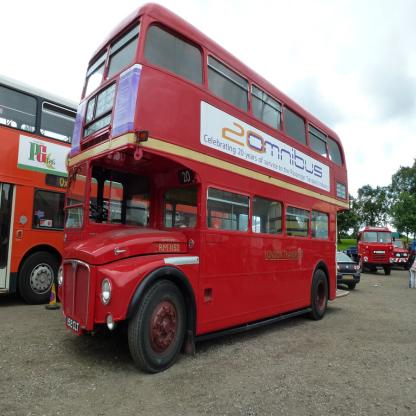Car: (338, 252, 360, 291)
